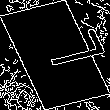L_W: (15, 32, 95, 78)
